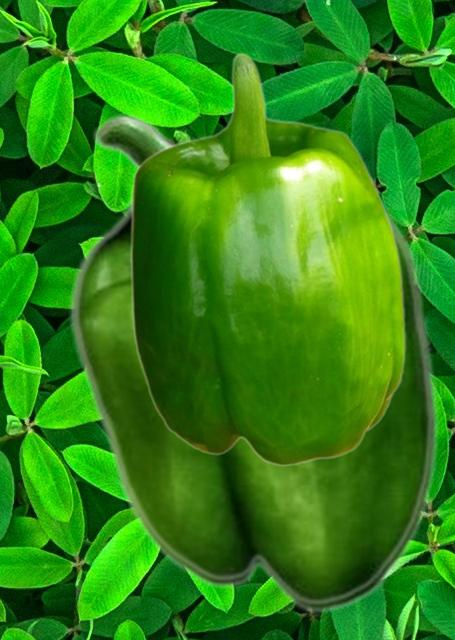bell_pepper: (68, 113, 439, 613), (72, 117, 434, 605), (129, 52, 405, 466)
